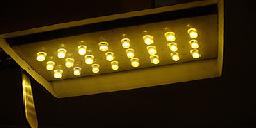LED: (119, 36, 134, 49), (162, 32, 178, 43), (74, 45, 88, 57), (144, 46, 160, 56), (52, 67, 63, 81), (186, 27, 198, 39), (55, 48, 68, 59), (167, 52, 181, 62), (186, 40, 201, 49), (143, 35, 154, 45), (36, 51, 48, 60), (104, 52, 114, 60)
